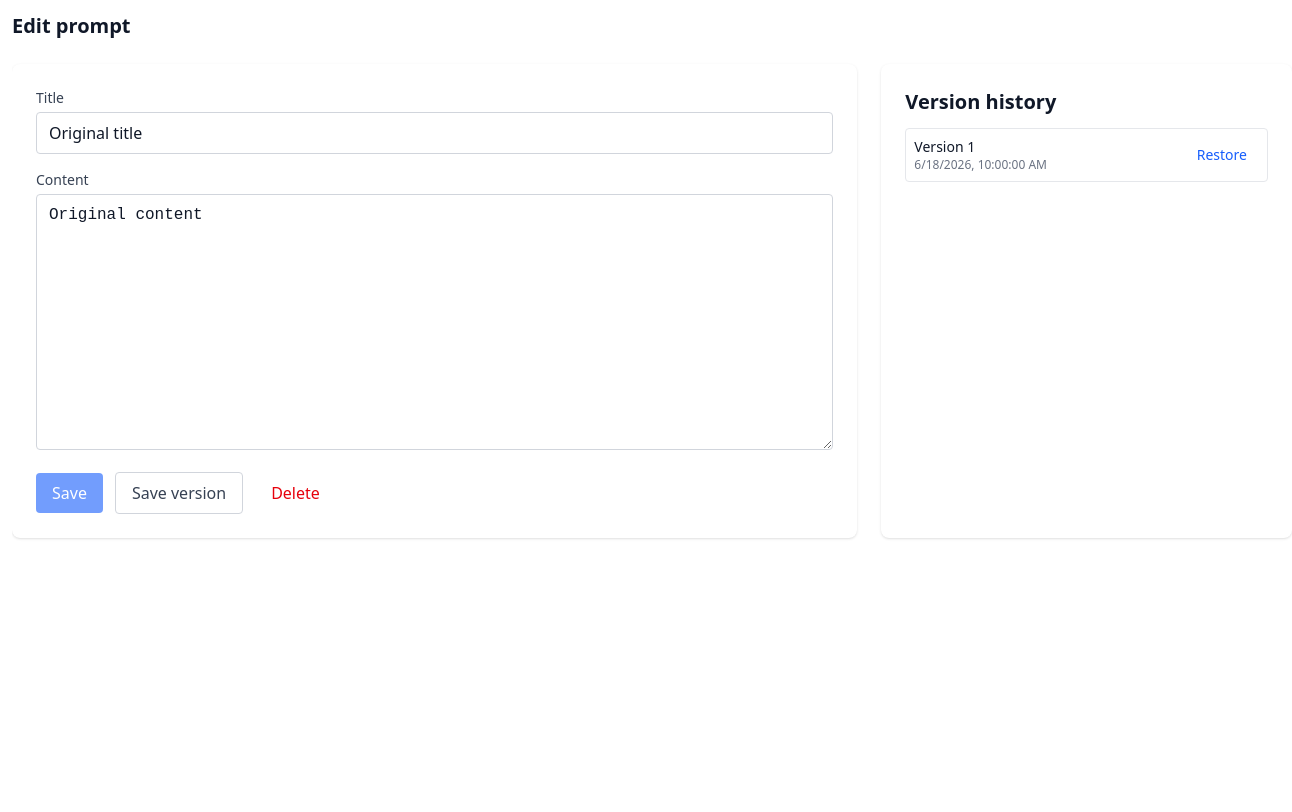
PromptEditorPage › restores a version without confirmation when clean
Expected: the text box showing "Original content" is shown, left=36, top=194, right=833, bottom=450
Click the button "Restore".
click(1222, 155)  # box left=1185, top=141, right=1259, bottom=169
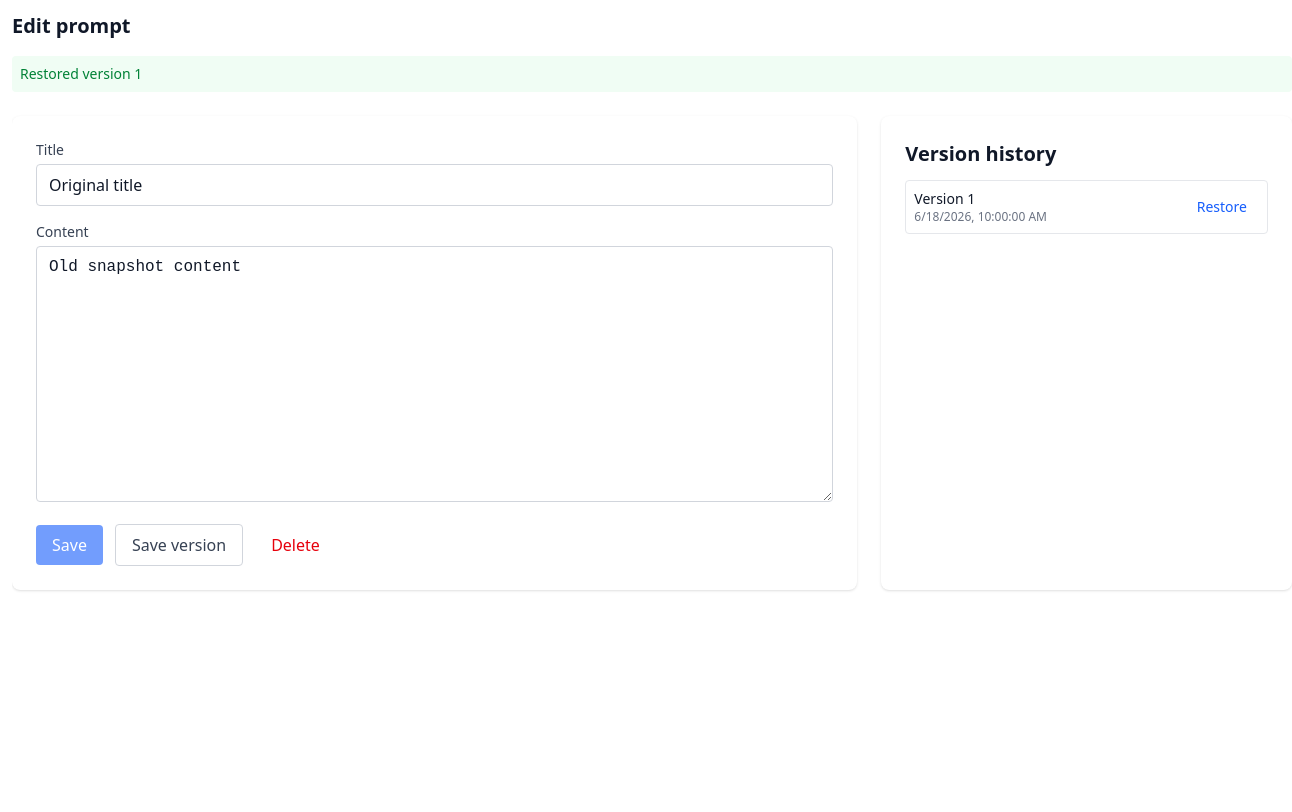
Expected: the number of list items is 1, left=905, top=180, right=1268, bottom=234
Expected: the text box showing "Old snapshot content" is shown, left=36, top=246, right=833, bottom=502
